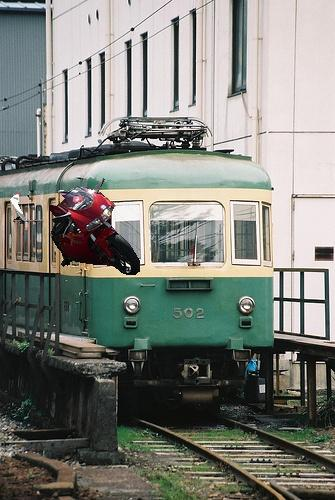tampered: (11, 179, 140, 275)
